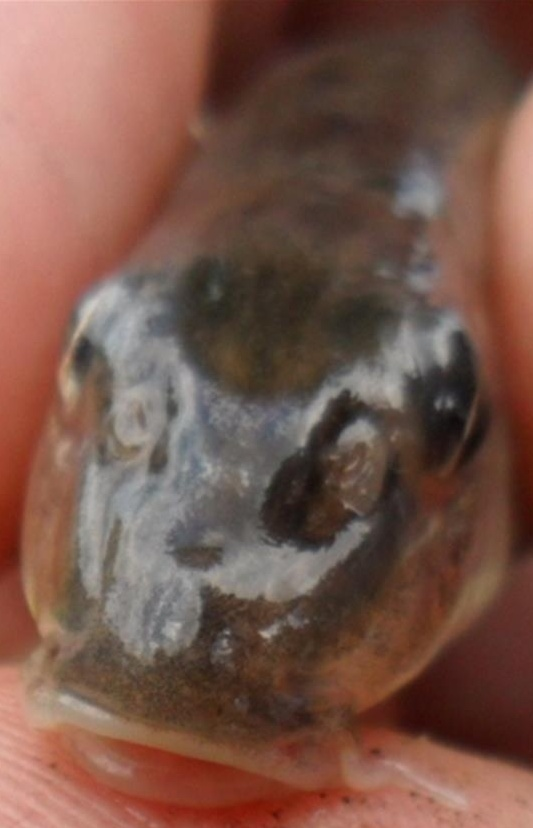Gobio gobio: (20, 20, 513, 808)
